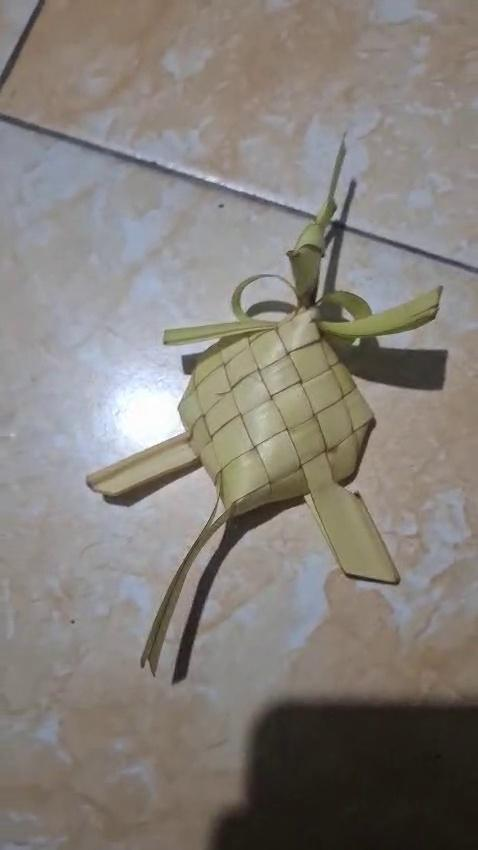Tipat Dampulan: (71, 130, 449, 673)
